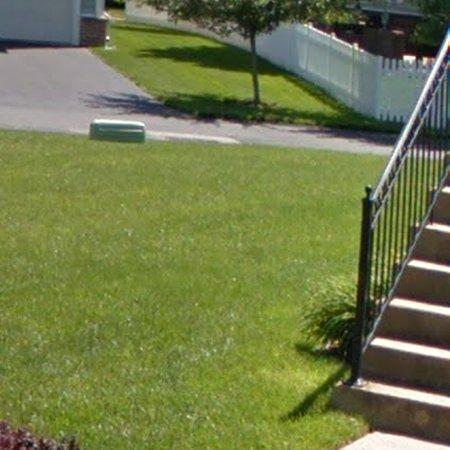stairs: (338, 185, 450, 445)
